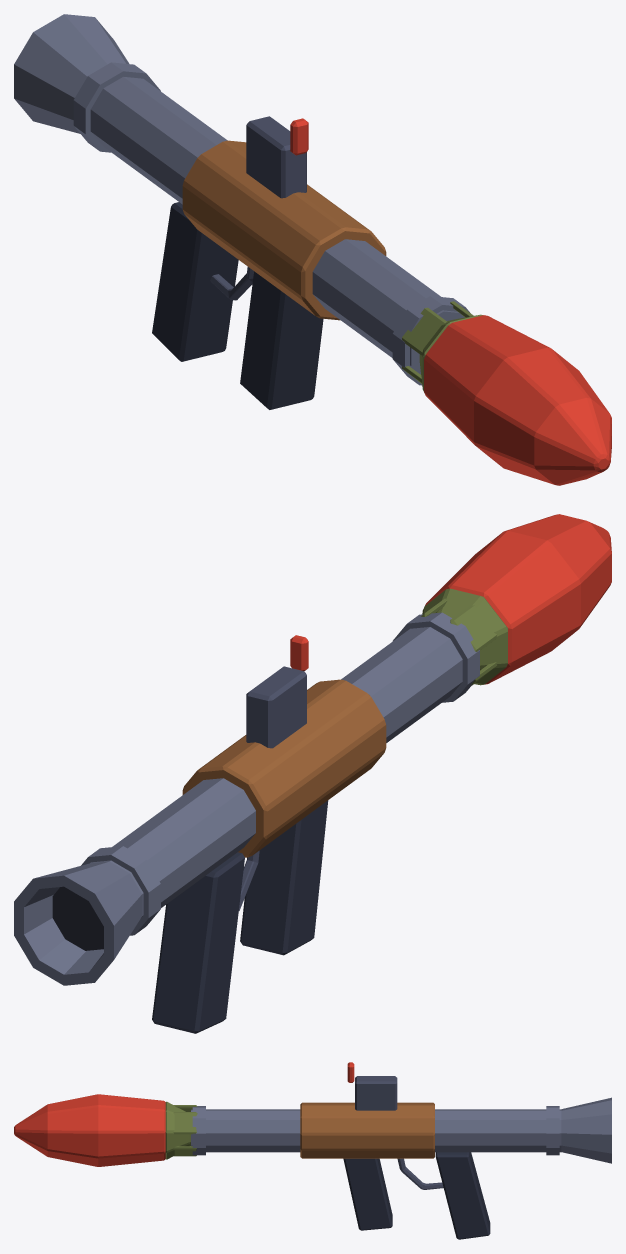
Rendered from myw_rocketlauncher.glb.
The picture shows the model from 3 angles, top to bottom: view 1: azimuth 30°, elevation 25°; view 2: azimuth 150°, elevation 25°; view 3: azimuth 270°, elevation 25°; orthographic projection. The views are drawn at different scales.
Parts seen in each view (by area): view 1: Tube, Rocket, Grips, Guard; view 2: Tube, Grips, Rocket, Guard; view 3: Tube, Rocket, Grips, Guard.
Boxes of the visible parts, x1=… form: Tube: x1=14, y1=14, x2=469, y2=385; Rocket: x1=402, y1=301, x2=611, y2=485; Grips: x1=152, y1=116, x2=323, y2=409; Guard: x1=182, y1=140, x2=386, y2=320; Tube: x1=14, y1=612, x2=479, y2=985; Grips: x1=152, y1=635, x2=328, y2=1033; Rocket: x1=421, y1=514, x2=611, y2=685; Guard: x1=182, y1=679, x2=386, y2=857; Tube: x1=191, y1=1097, x2=611, y2=1163; Rocket: x1=14, y1=1094, x2=197, y2=1166; Grips: x1=343, y1=1062, x2=490, y2=1239; Guard: x1=300, y1=1102, x2=434, y2=1158.
Size of the model in its own units: 0.4065 by 1.12 by 3.55.
